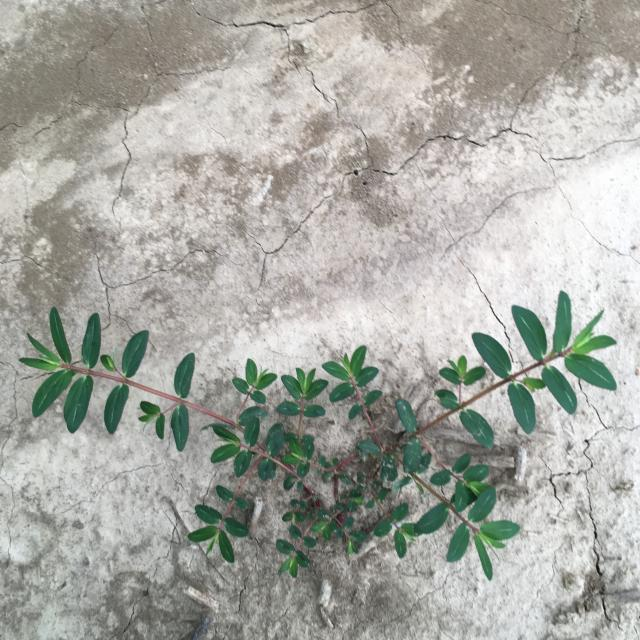SpottedSpurge: (18, 290, 617, 579)
